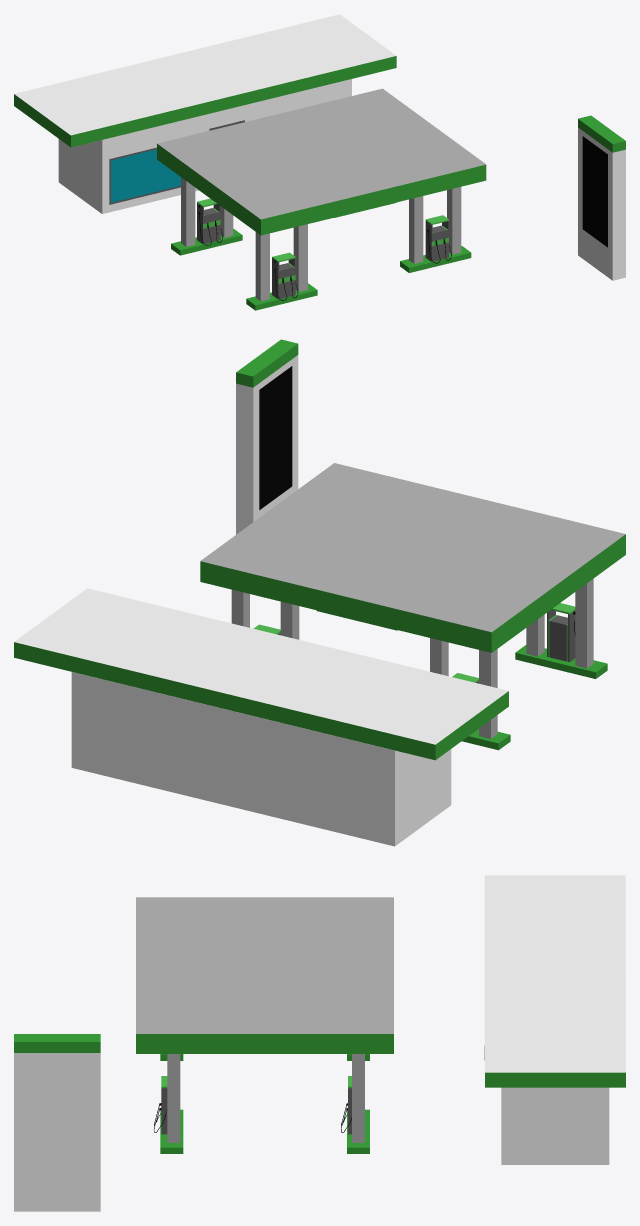
The model's file is gas station.fbx.
The picture shows the model from 3 angles, top to bottom: view 1: azimuth 30°, elevation 25°; view 2: azimuth 150°, elevation 25°; view 3: azimuth 270°, elevation 25°; orthographic projection. The views are drawn at different scales.
Visible parts, largest first — view 1: Cube, Cube.001, Cube.014, Cube.002; view 2: Cube.001, Cube, Cube.014, Cube.002; view 3: Cube, Cube.001, Cube.014, Cube.002.
Boxes of the visible parts, x1,y1,x2,y2 form: Cube: (157, 88, 486, 310); Cube.001: (14, 14, 396, 213); Cube.014: (578, 115, 625, 280); Cube.002: (197, 198, 448, 299); Cube.001: (14, 588, 508, 846); Cube: (200, 463, 625, 750); Cube.014: (236, 339, 298, 534); Cube.002: (253, 603, 575, 732); Cube: (136, 897, 393, 1153); Cube.001: (484, 875, 625, 1164); Cube.014: (14, 1034, 100, 1211); Cube.002: (161, 1076, 351, 1134).
Size of the model in its own units: 969 by 347 by 1131.
